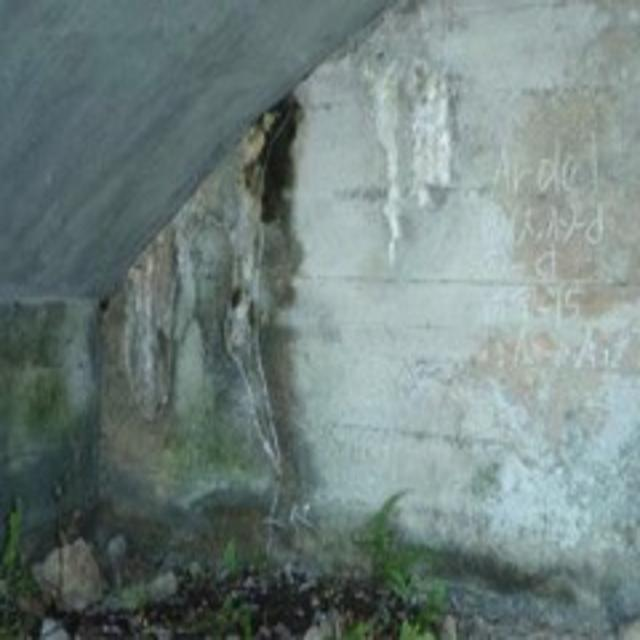freelime: (340, 50, 466, 251)
leakage: (136, 136, 293, 488)
